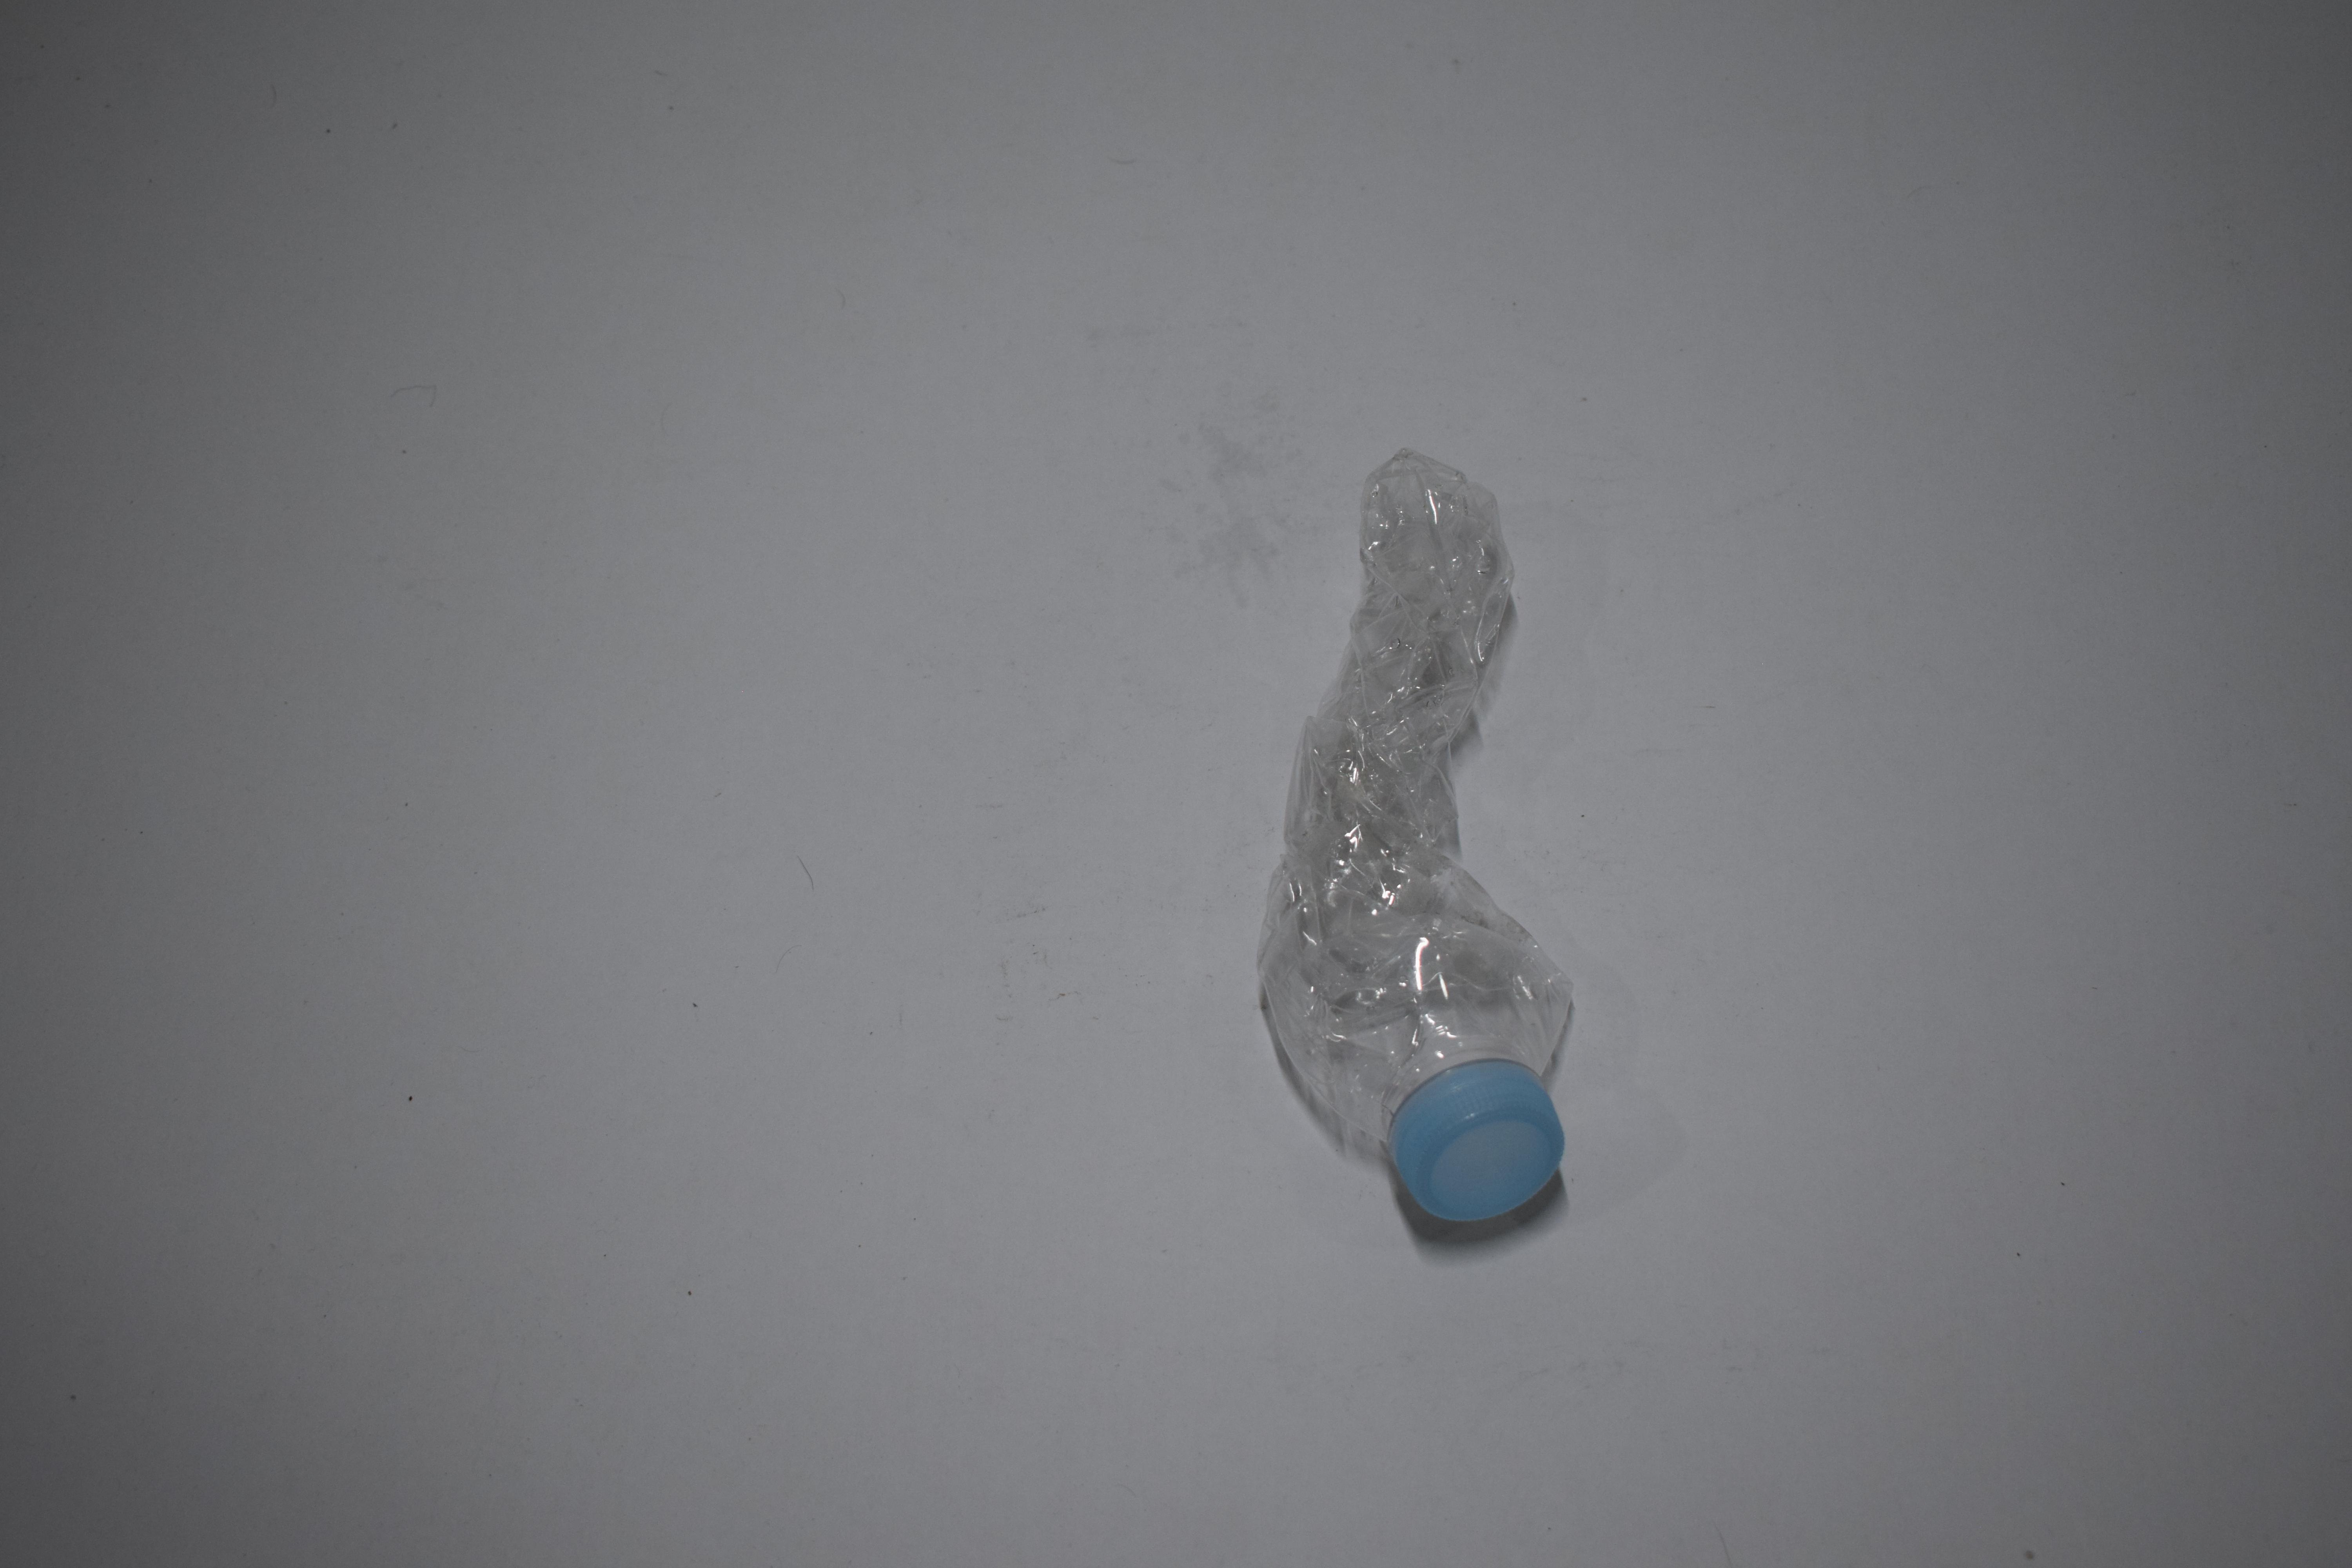bottle: (1248, 51, 1578, 66)
